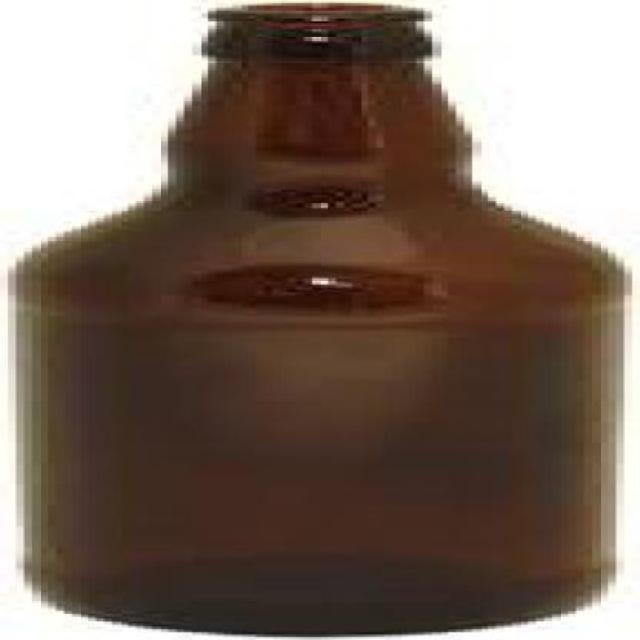GLASS: (9, 2, 616, 635)
